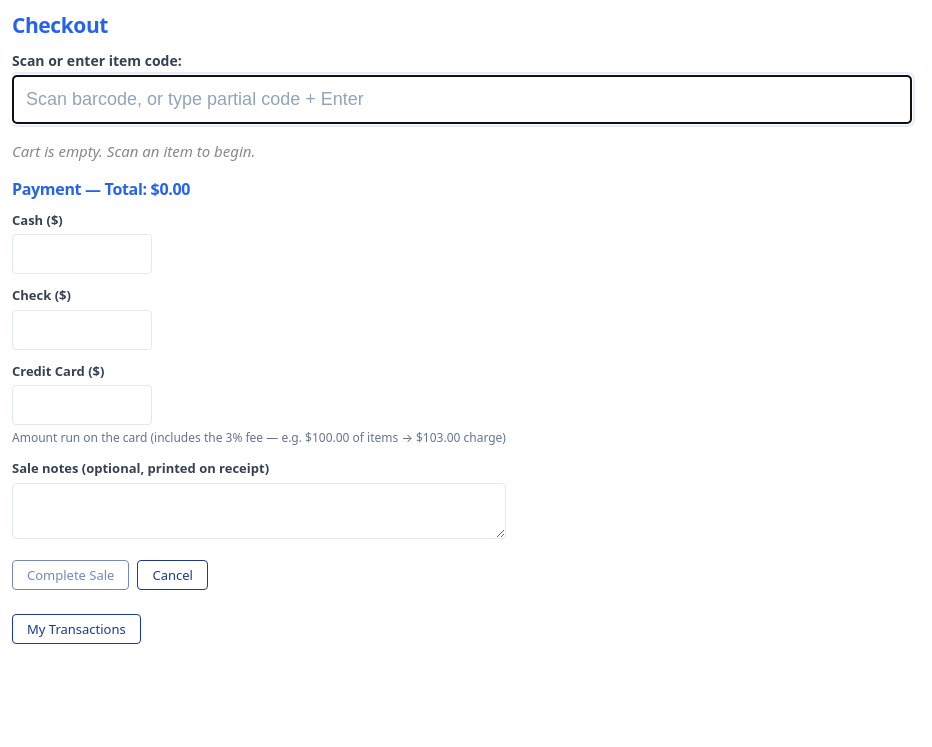
it: POSPage › removes item from cart when Remove is clicked
Type "A001-001" into the field with placeholder "Scan barcode, or type partial code + Enter" at (462, 100), box x1=12 y1=75 x2=912 y2=124
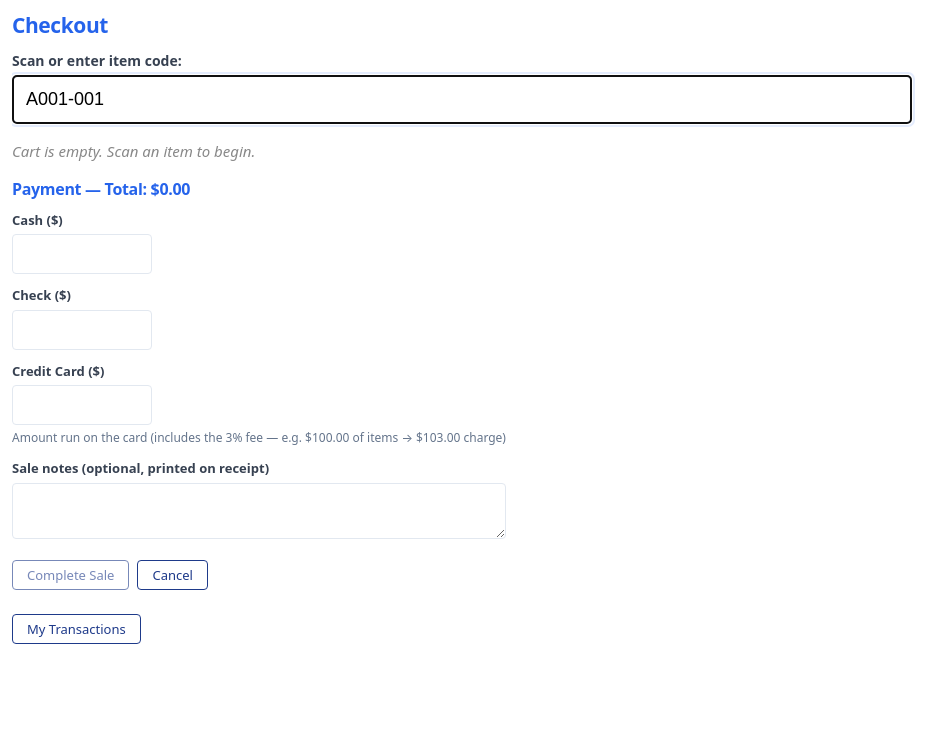
Press Enter in the field with placeholder "Scan barcode, or type partial code + Enter", box x1=12 y1=75 x2=912 y2=124
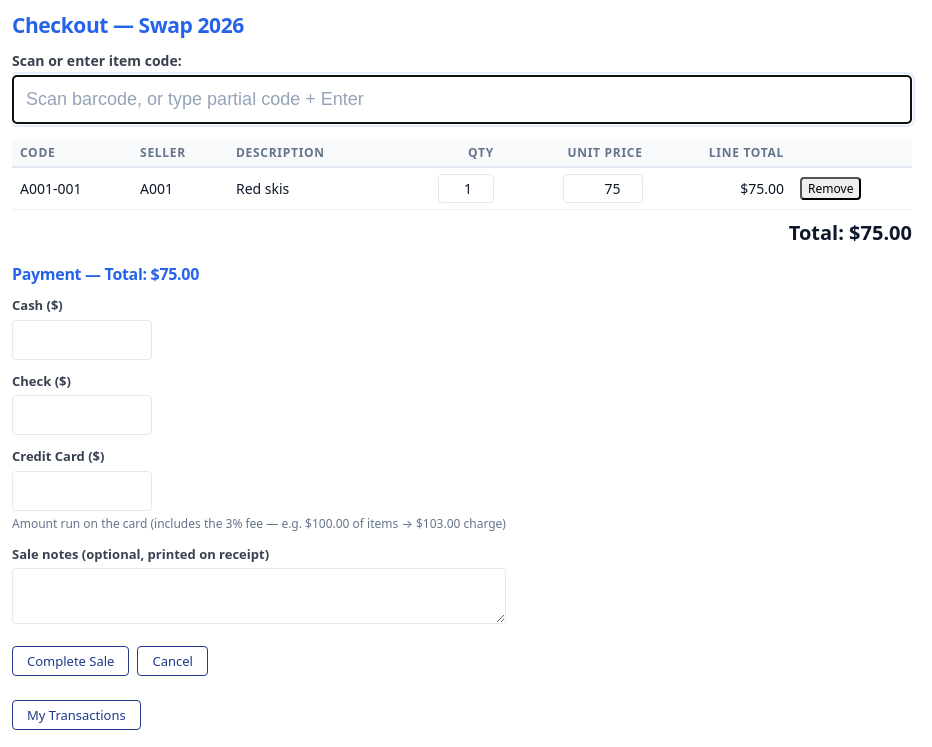
Expected: the text "A001-001" is shown, x1=12 y1=167 x2=132 y2=210
Click the button with aria-label "remove A001-001" at (831, 189), box x1=800 y1=177 x2=861 y2=200
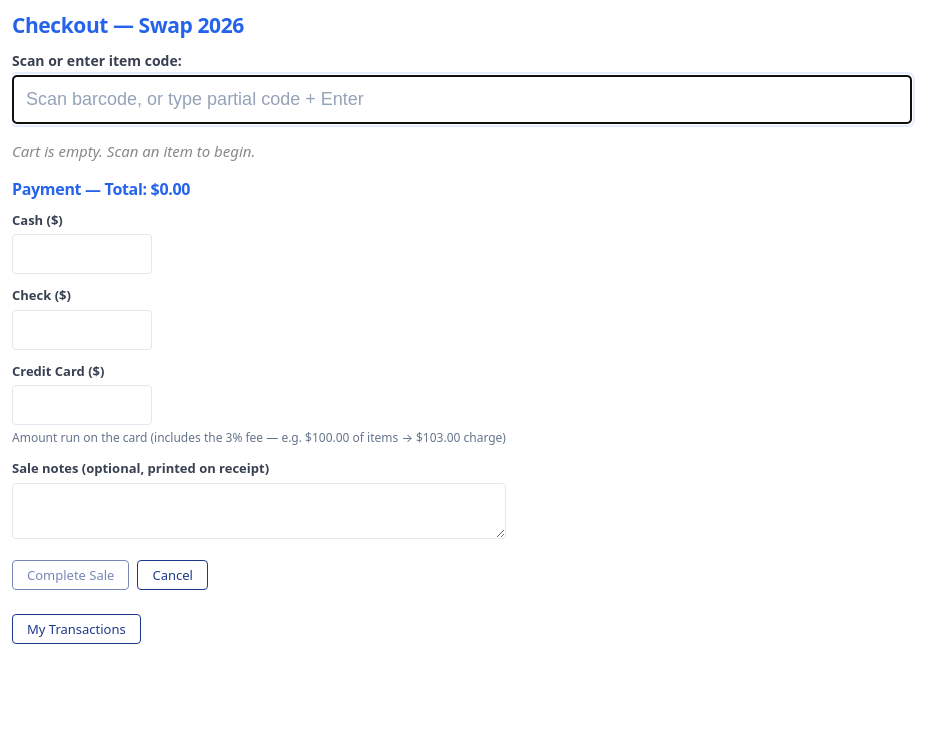
Expected: the text "Cart is empty. Scan an item to begin." is shown, x1=12 y1=141 x2=255 y2=161
